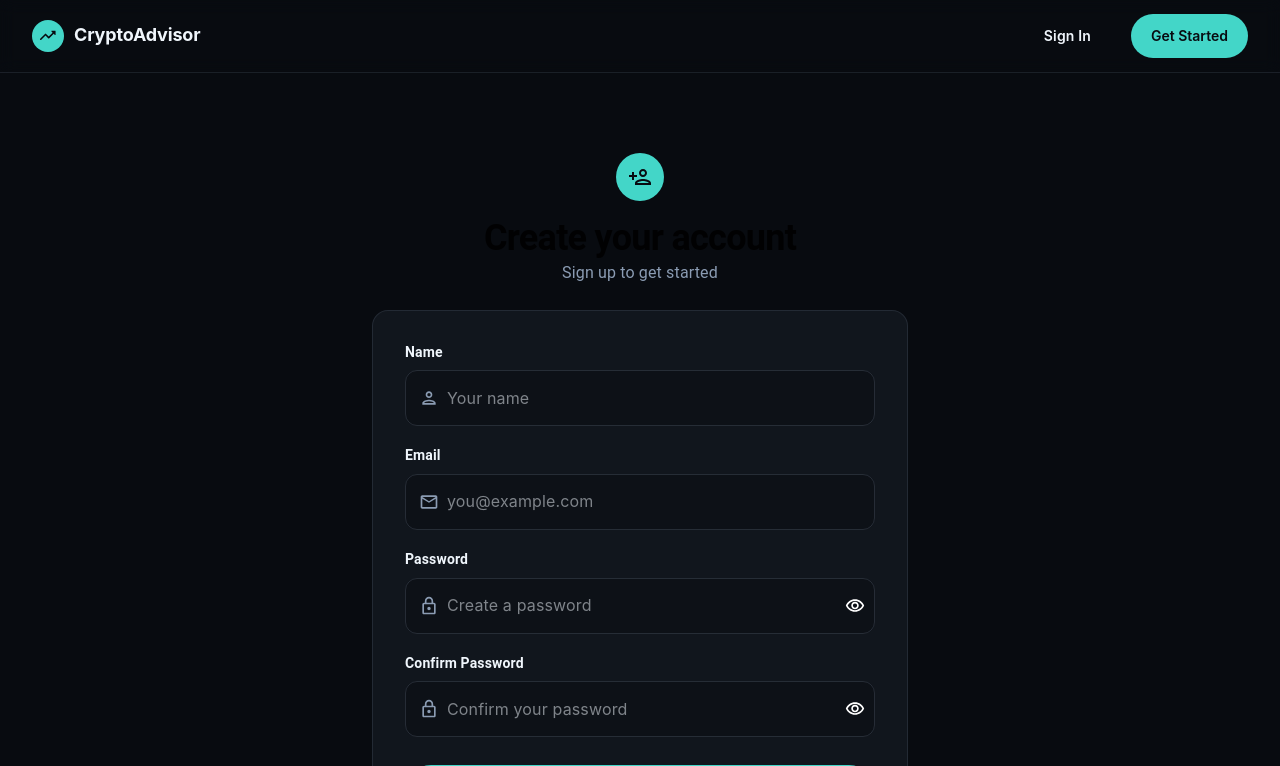
authentication flows › shows duplicate email message on 409
Type "Ron" into the field labelled "Name" at {"x": 661, "y": 398}, box [447, 370, 875, 426]
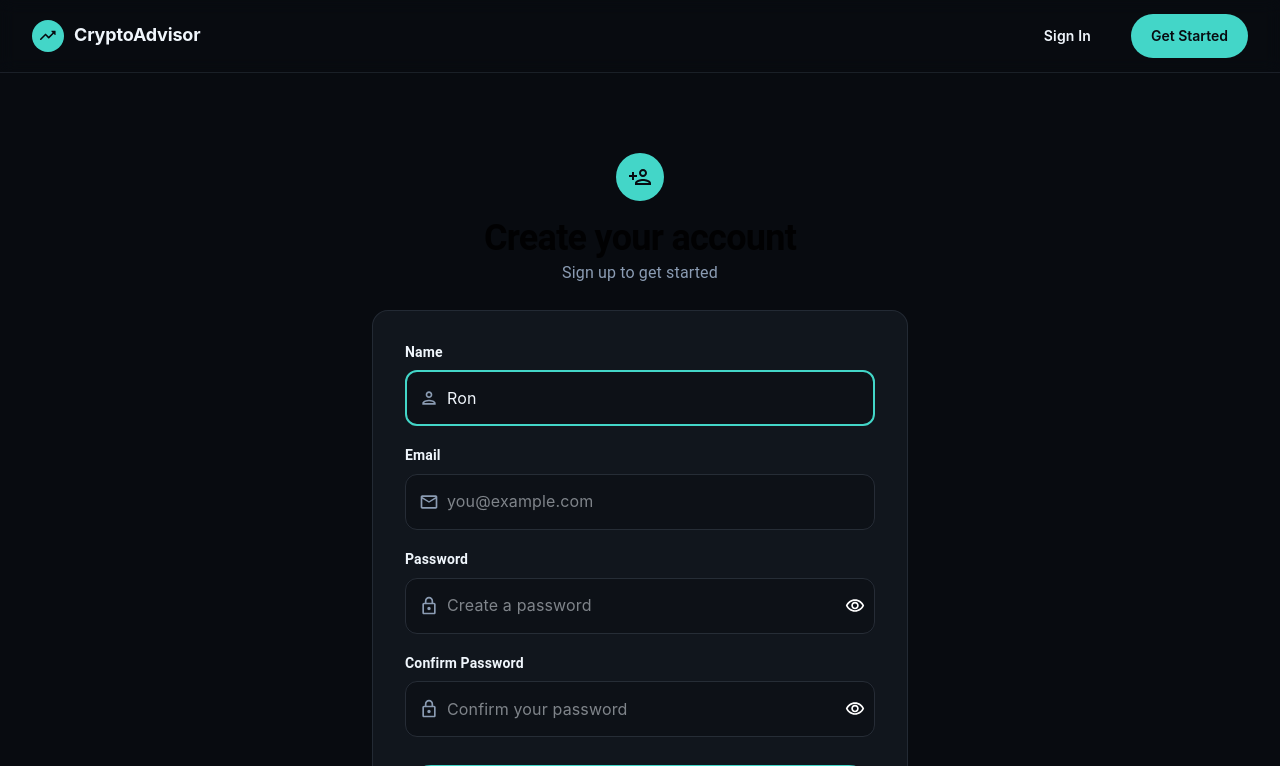
Type "ron@example.com" into the field labelled "Email" at {"x": 661, "y": 502}, box [447, 474, 875, 530]
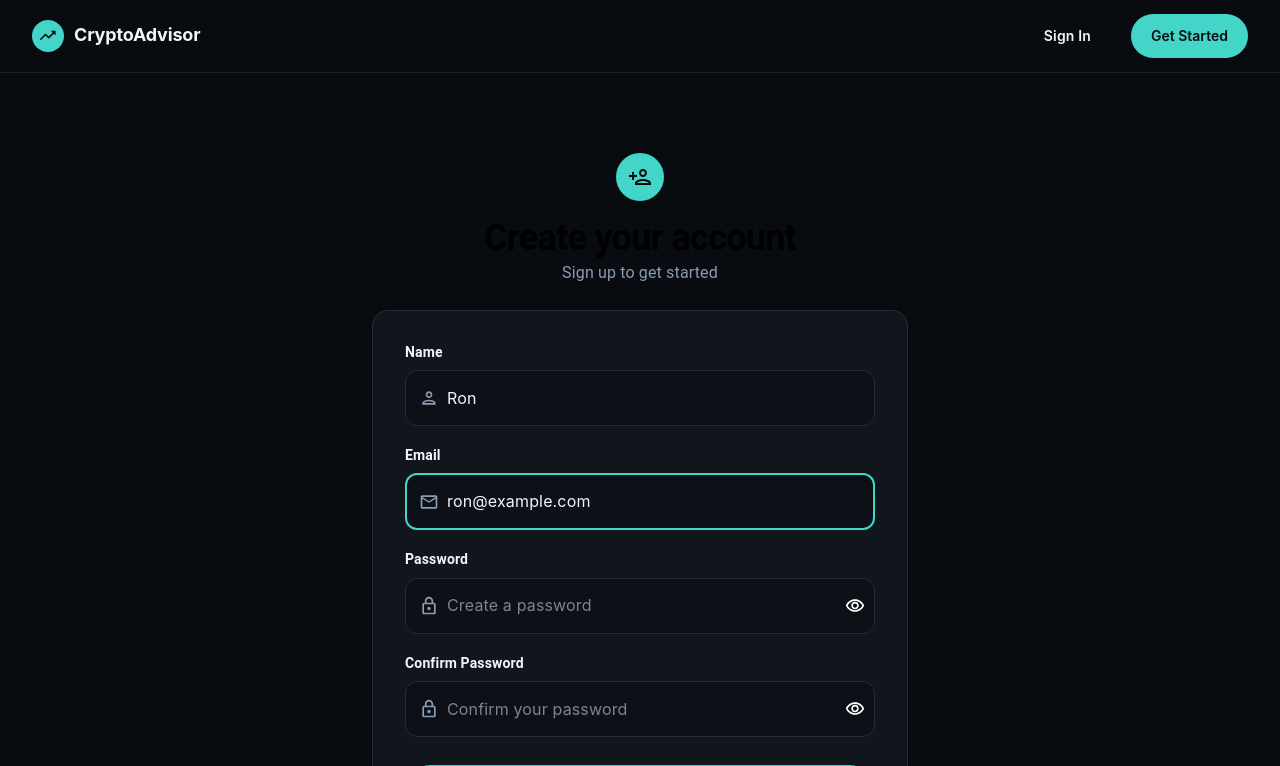
Type "StrongPass123!" into the password field labelled "Password" at {"x": 638, "y": 606}, box [447, 578, 829, 634]
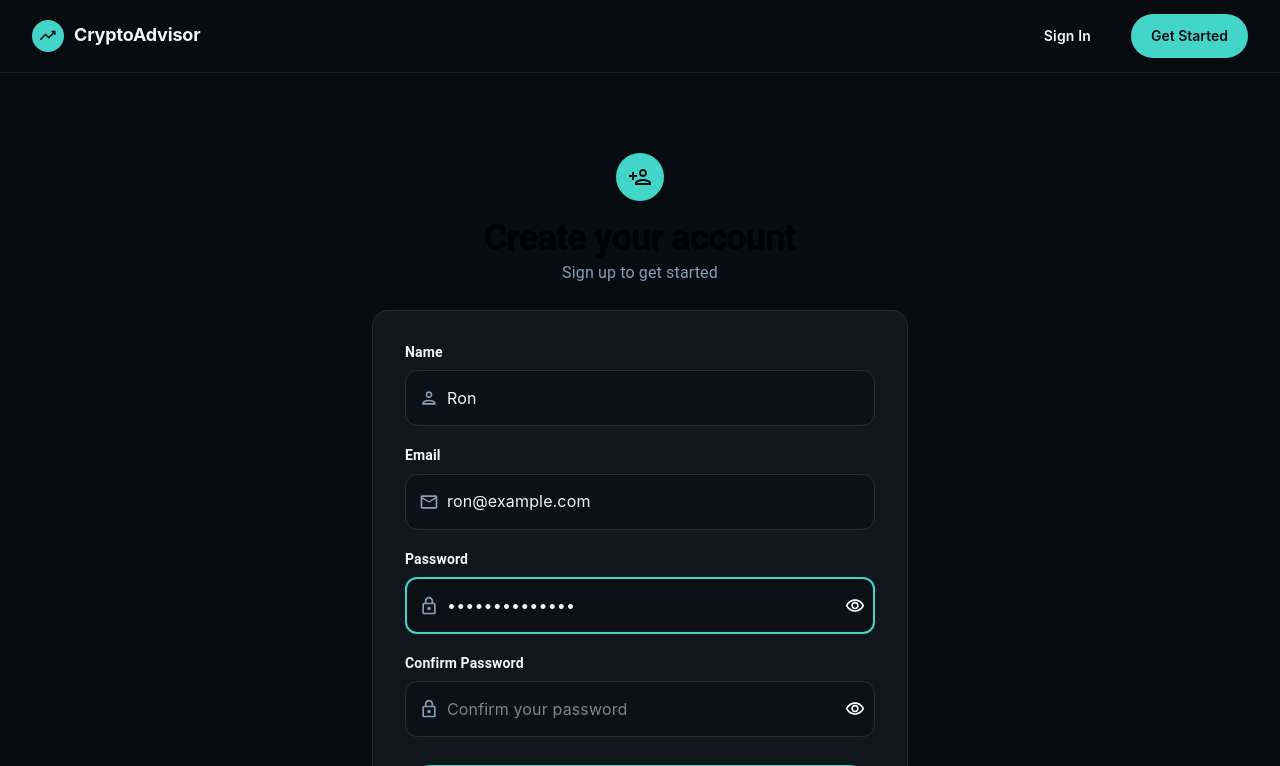
Type "StrongPass123!" into the password field labelled "Confirm Password" at {"x": 638, "y": 709}, box [447, 681, 829, 737]
(page scrolled)
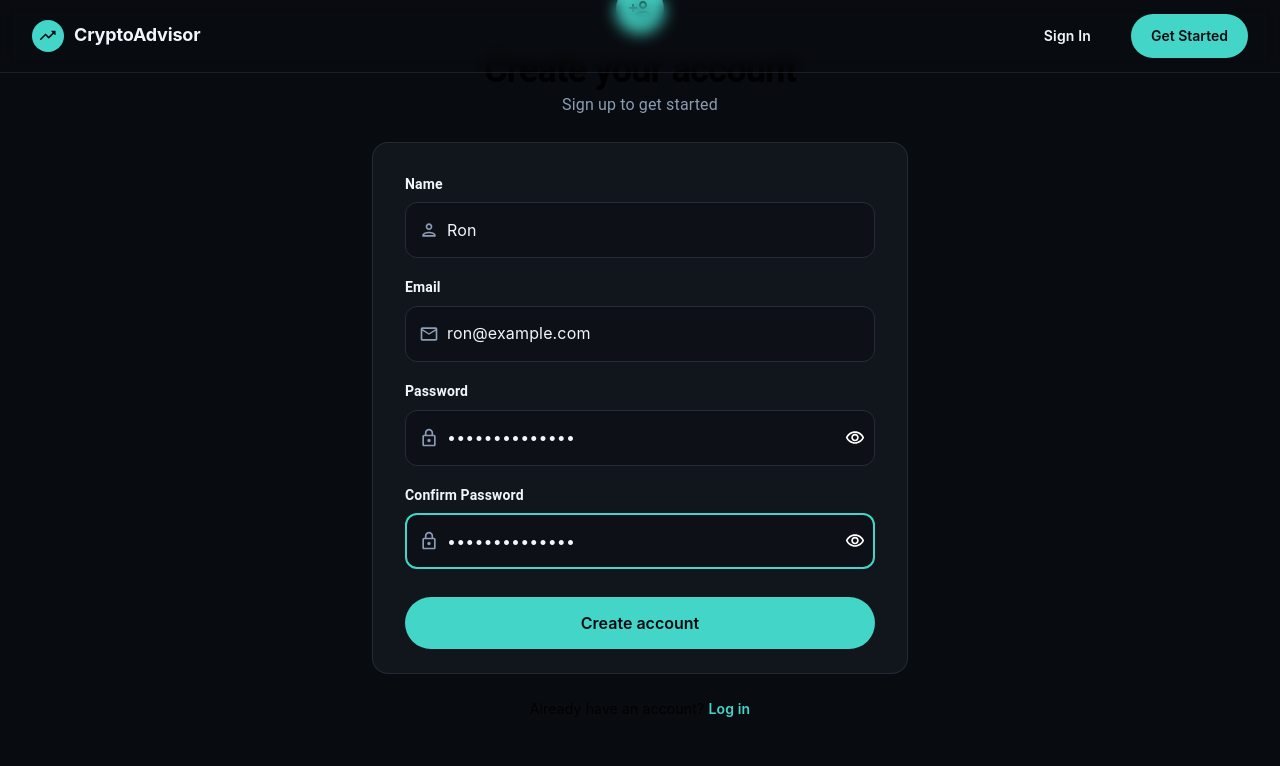
Click the button "Create account" at {"x": 640, "y": 623}, box [405, 597, 875, 649]
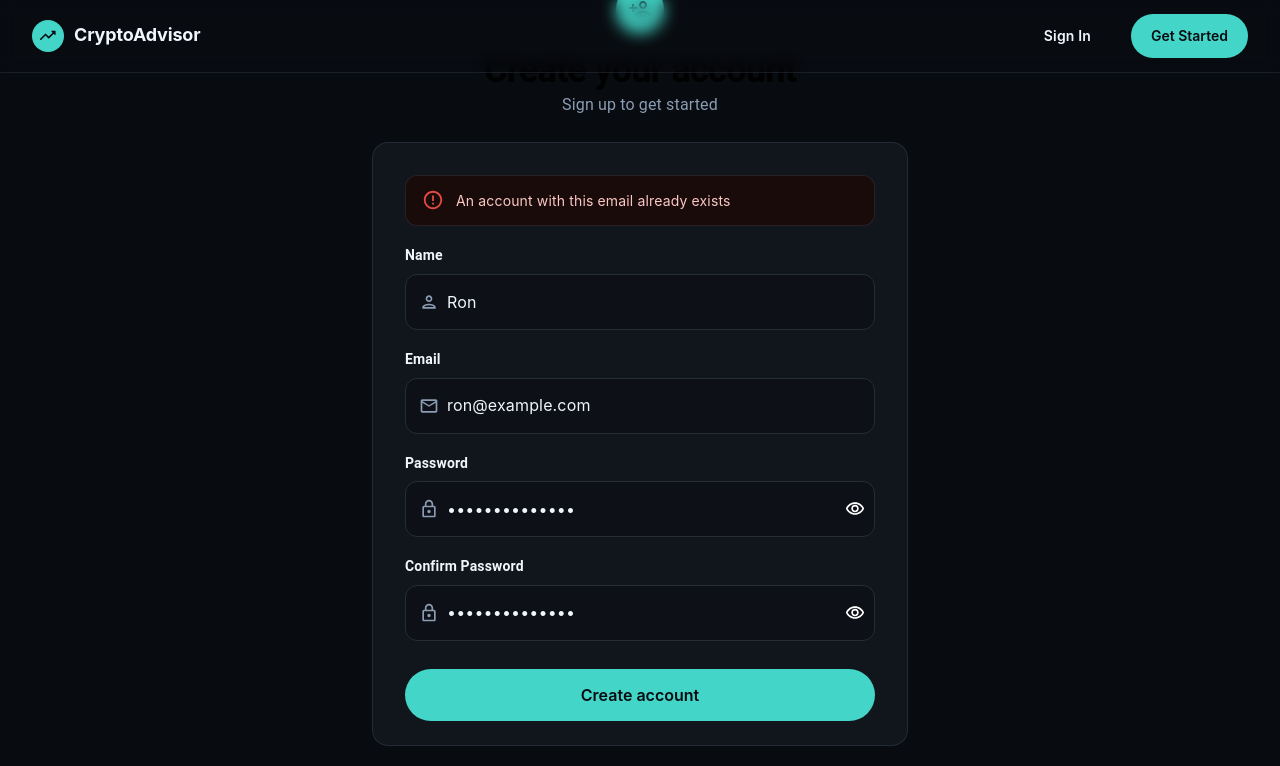
Check: the text "An account with this email already exists" is shown, box [456, 192, 731, 209]
